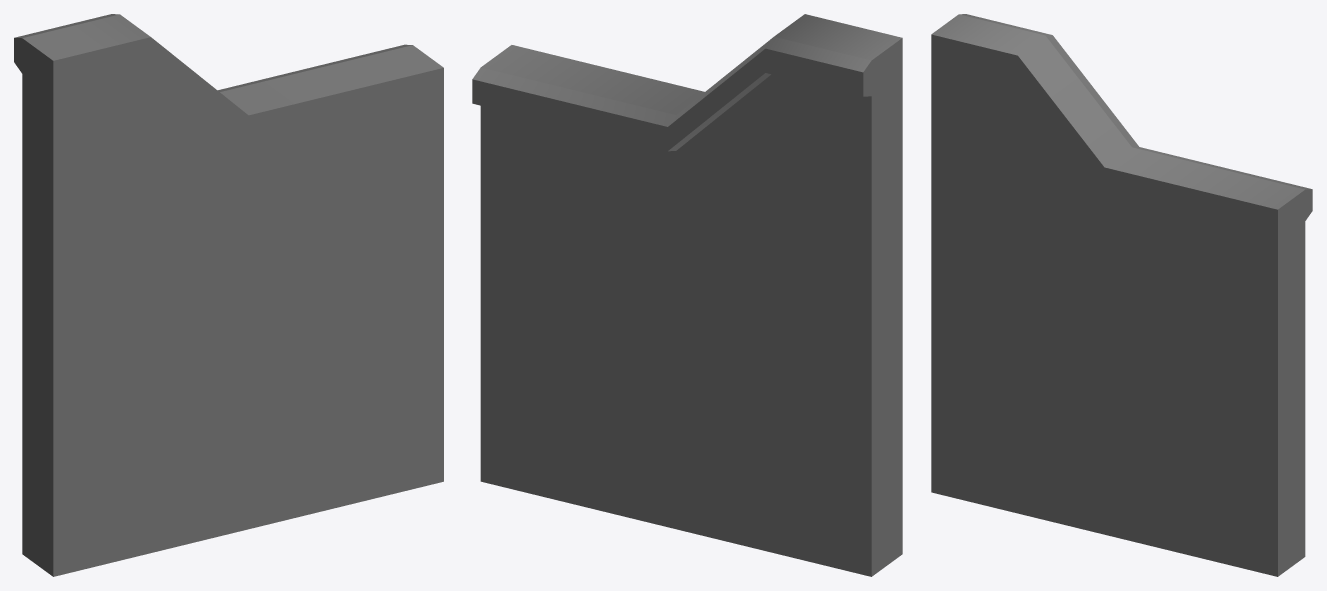
File: Stone Wall 1 U 1 R.fbx
3 views of the same model, side by side, from view 1: azimuth 30°, elevation 25°; view 2: azimuth 150°, elevation 25°; view 3: azimuth 330°, elevation 25° (orthographic). The views are drawn at different scales.
Parts seen in each view (by area): view 1: Stone_Wall_1_U_1_R; view 2: Stone_Wall_1_U_1_R; view 3: Stone_Wall_1_U_1_R.
Part boxes in pixels (x1=…): Stone_Wall_1_U_1_R: x1=14, y1=14, x2=443, y2=576; Stone_Wall_1_U_1_R: x1=472, y1=14, x2=902, y2=576; Stone_Wall_1_U_1_R: x1=931, y1=14, x2=1312, y2=576.
Size of the model in its own units: 4 by 5.05 by 0.6983.
